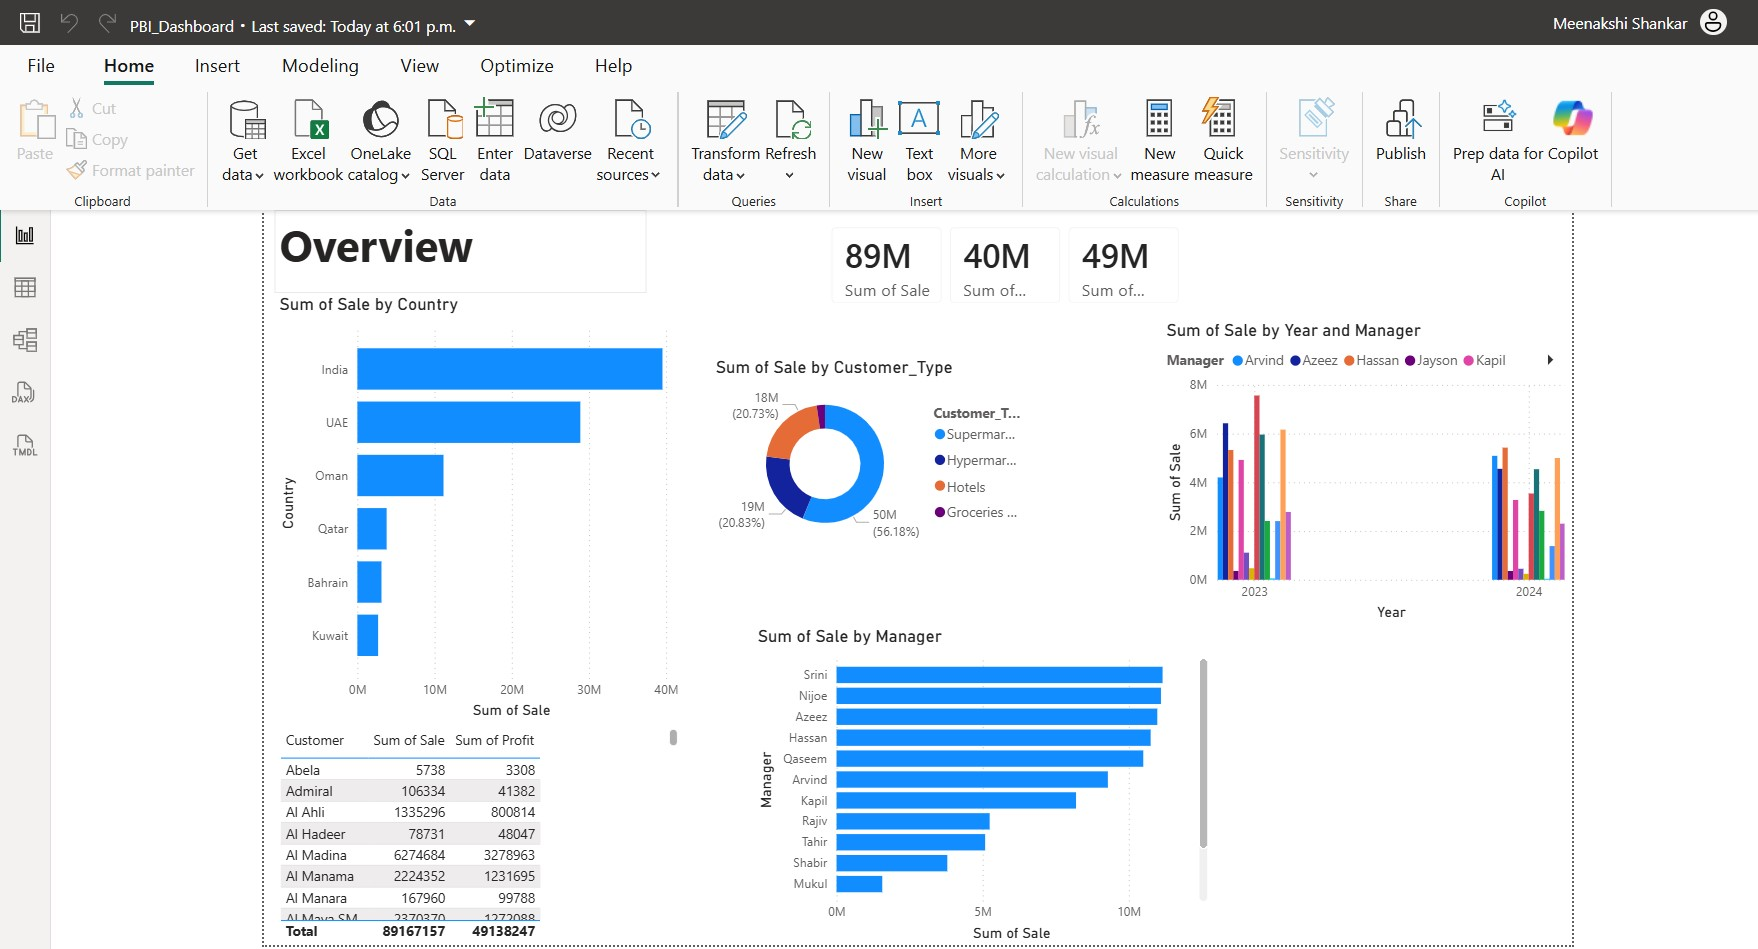

This screenshot's page, from the dashboard's own definition file:
{"tool":"powerbi","page":{"name":"Page 1","canvas":[1280,720],"ordinal":0},"visuals":[{"type":"textbox","box":[10,0,365,81.7],"z":0},{"type":"barChart","fields":{"Category":["Transactions.Country"],"Y":["Sum(Transactions.Sale)"]},"box":[10,81.7,400,420],"z":1000},{"type":"cardVisual","fields":{"Data":["Sum(Transactions.Sale)","Sum(Transactions.Cost)","Sum(Transactions.Profit)"]},"box":[538.3,0,376.7,108.3],"z":2000},{"type":"clusteredBarChart","fields":{"Y":["Sum(Transactions.Sale)"],"Category":["Transactions.Manager"]},"box":[478.3,406.7,450,313.3],"z":3000},{"type":"donutChart","fields":{"Y":["Sum(Transactions.Sale)"],"Category":["Transactions.Customer_Type"]},"box":[436.7,143.3,315,190],"z":4000},{"type":"tableEx","fields":{"Values":["Transactions.Customer","Sum(Transactions.Sale)","Sum(Transactions.Profit)"]},"box":[10,502,400,218],"z":5000},{"type":"clusteredColumnChart","fields":{"Y":["Sum(Transactions.Sale)"],"Category":["Transactions.Invoice Date.Variation.Date Hierarchy.Year"],"Series":["Transactions.Manager"]},"box":[878,108,400,299],"z":6000}]}

Visuals, with their boxes on the page's 1280x720 design canvas (x1, y1, x2, y2). These are canvas units, not pixel positions in the 1758x949 screenshot, which may show the page scaled, cropped or inside an application window:
textbox: [10, 0, 375, 82]
barChart - Transactions.Country x Sum(Transactions.Sale): [10, 82, 410, 502]
cardVisual - Sum(Transactions.Sale) x Sum(Transactions.Cost): [538, 0, 915, 108]
clusteredBarChart - Sum(Transactions.Sale) x Transactions.Manager: [478, 407, 928, 720]
donutChart - Sum(Transactions.Sale) x Transactions.Customer_Type: [437, 143, 752, 333]
tableEx - Transactions.Customer x Sum(Transactions.Sale): [10, 502, 410, 720]
clusteredColumnChart - Sum(Transactions.Sale) x Transactions.Invoice Date.Variation.Date Hierarchy.Year: [878, 108, 1278, 407]
